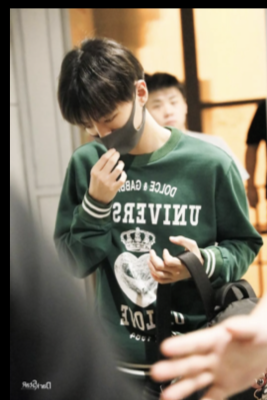with_mask: (78, 102, 137, 155)
without_mask: (144, 94, 184, 133)
